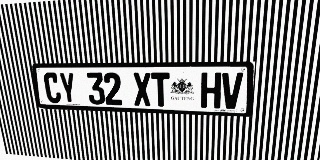2: (103, 72, 122, 105)
3: (86, 72, 105, 105)
C: (43, 72, 62, 103)
H: (201, 72, 221, 108)
T: (151, 72, 170, 107)
V: (221, 73, 243, 109)
X: (132, 72, 152, 106)
Y: (58, 72, 77, 104)
